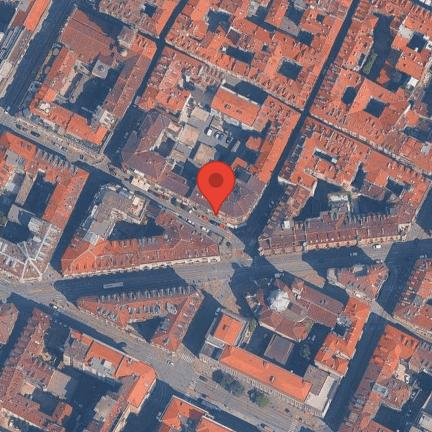area_open: (198, 278, 272, 358), (18, 362, 108, 426), (142, 341, 219, 406), (0, 273, 86, 328), (182, 104, 251, 166), (55, 67, 120, 121), (290, 269, 351, 304), (217, 224, 262, 261), (219, 74, 268, 107)
built: (259, 116, 432, 255), (198, 278, 371, 417), (309, 0, 432, 177), (164, 1, 353, 111), (19, 6, 157, 155), (0, 309, 156, 432), (60, 185, 220, 277), (1, 132, 91, 280), (210, 87, 302, 225), (336, 326, 432, 432), (77, 285, 205, 354), (121, 112, 216, 194), (138, 45, 223, 118), (1, 0, 52, 96), (99, 0, 180, 38), (393, 258, 432, 335), (155, 397, 236, 432), (327, 264, 389, 301), (0, 303, 19, 346)
vegetation_high: (362, 51, 379, 75)
